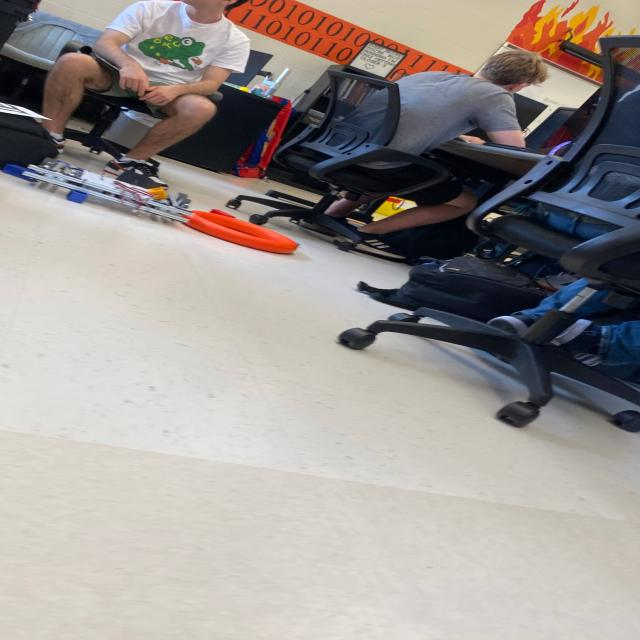blue-specimen: (2, 164, 28, 180), (66, 190, 88, 204)
red-specimen: (209, 209, 236, 219)
yellow-specimen: (141, 186, 167, 200)
